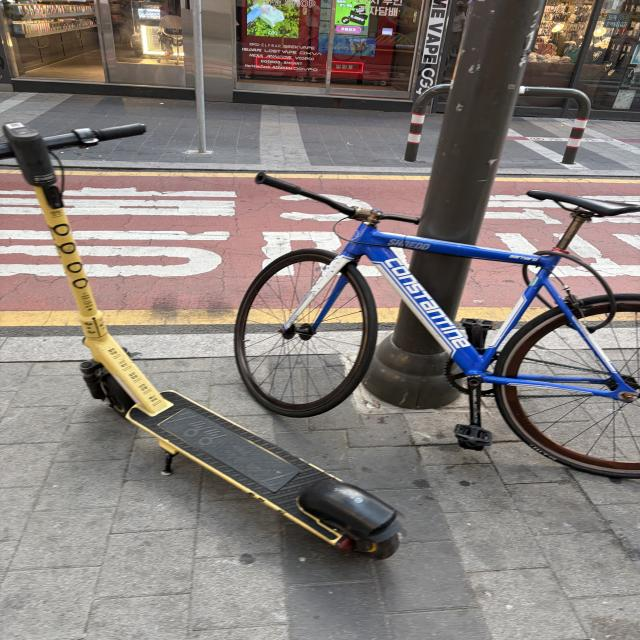bicycle: (200, 139, 640, 486)
